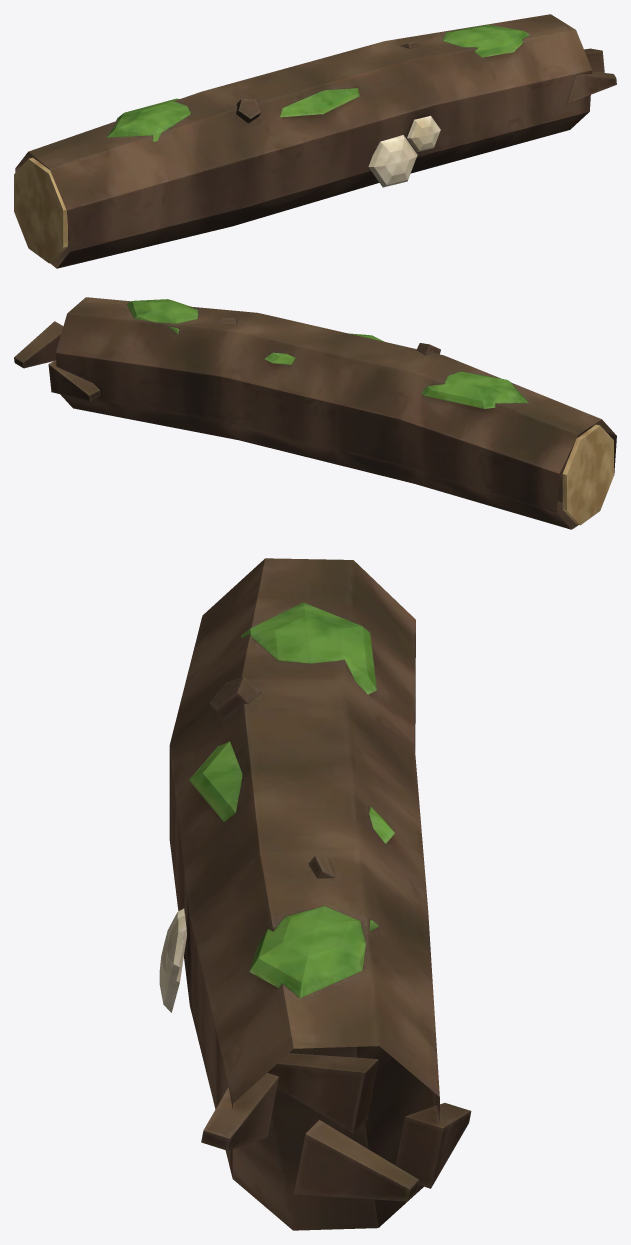
File: log_fallen.glb
3 renders of one model, top to bottom at view 1: azimuth 30°, elevation 25°; view 2: azimuth 150°, elevation 25°; view 3: azimuth 270°, elevation 25°, orthographic. The views are drawn at different scales.
Parts seen in each view (by area): view 1: Static_Mesh; view 2: Static_Mesh; view 3: Static_Mesh.
Part boxes in pixels (box(x1,y1,x2,y2)): Static_Mesh: box(14, 14, 616, 268); Static_Mesh: box(14, 297, 616, 529); Static_Mesh: box(159, 558, 471, 1230).
Bounding box in the file's own units: 3.75 × 0.8062 × 0.9172.
1 material, 1 textured.
